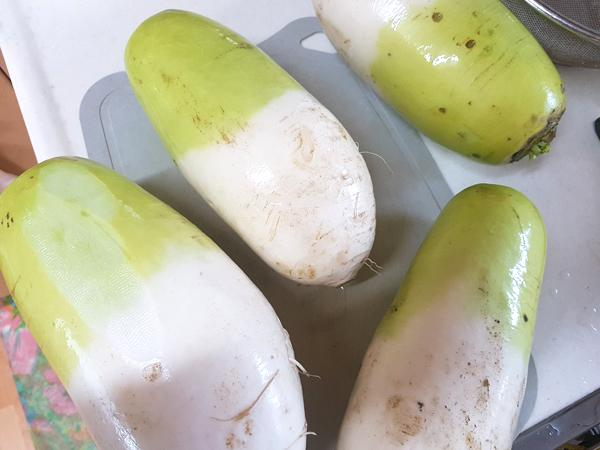radish: (383, 184, 487, 311), (154, 13, 260, 132)
